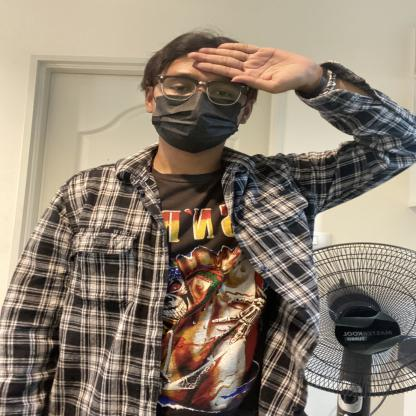Sick: (111, 3, 368, 112)
